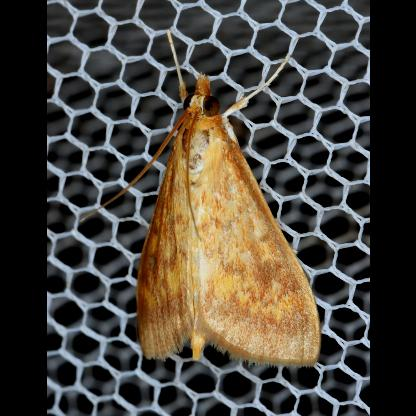Asian Corn Borer Moth: (79, 27, 325, 372)
